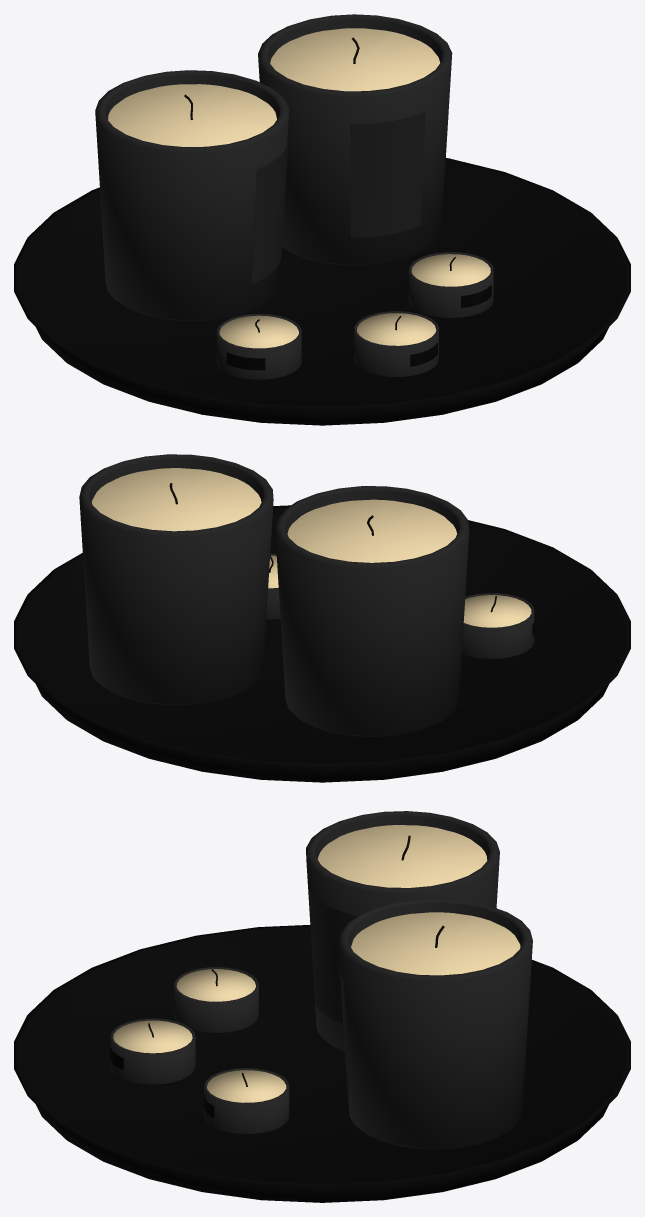
Rendered from DECO_Plate_Candle.FBX.
3 renders of one model, top to bottom at view 1: azimuth 30°, elevation 25°; view 2: azimuth 150°, elevation 25°; view 3: azimuth 270°, elevation 25°, orthographic.
Parts seen in each view (by area): view 1: Plato_Velas001; view 2: Plato_Velas001; view 3: Plato_Velas001.
Part boxes in pixels (box(x1,y1,x2,y2)): Plato_Velas001: box(14, 14, 630, 425); Plato_Velas001: box(14, 454, 630, 782); Plato_Velas001: box(14, 811, 630, 1202).
Size of the model in its own units: 21.74 by 7.62 by 21.62.
